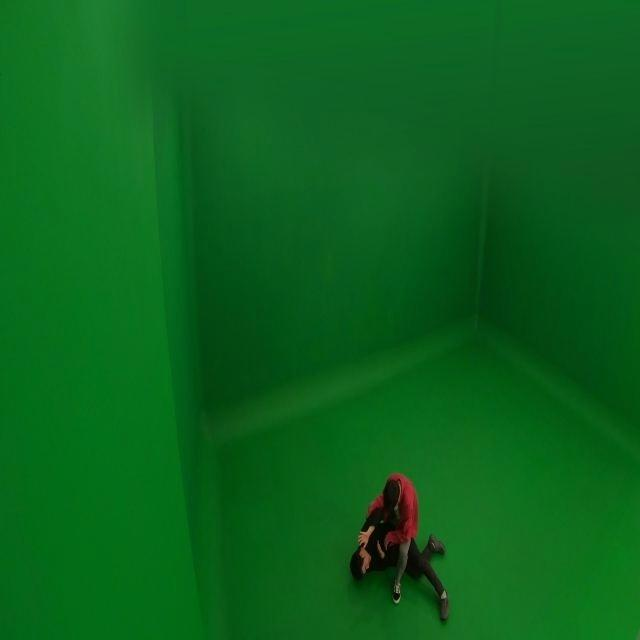fight: (348, 472, 452, 617)
